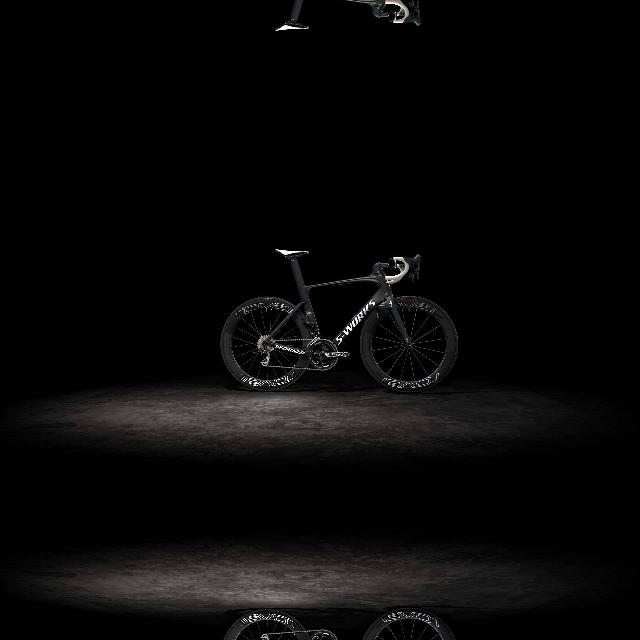obstacle: (202, 221, 496, 421), (202, 579, 495, 640), (202, 0, 495, 59)
